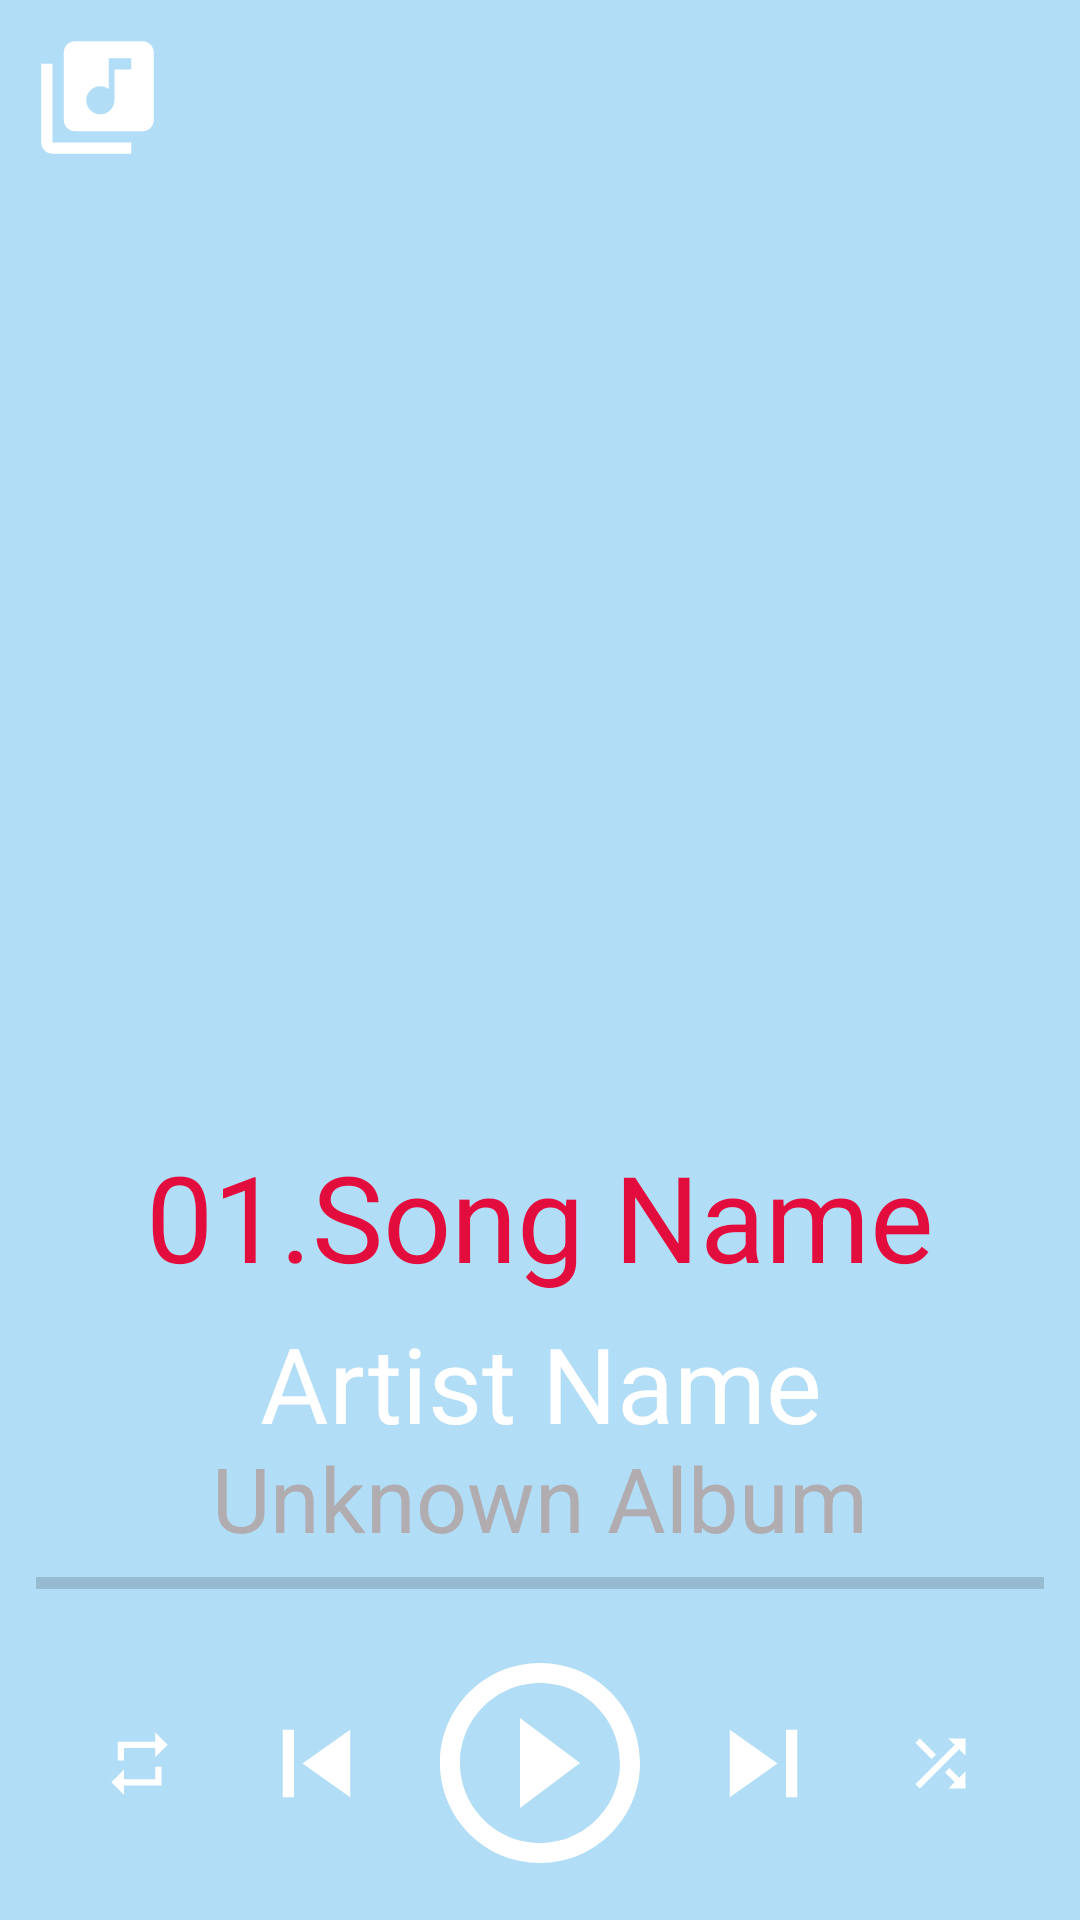

Where icons sit on this 1080px x 1920px app screen, as (x1, y1, x2, y2):
library music: (41, 41, 154, 154)
repeat: (112, 1733, 167, 1795)
shuffle: (916, 1738, 966, 1789)
skip next: (730, 1730, 797, 1797)
skip previous: (283, 1730, 350, 1797)
